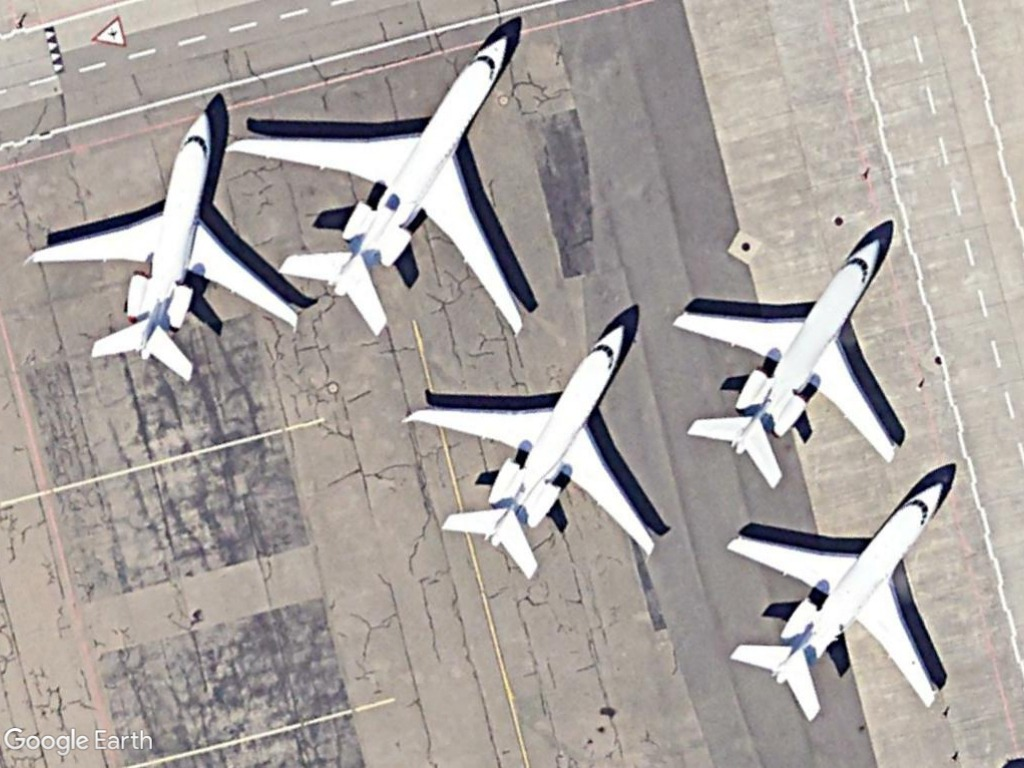chartered: (224, 29, 524, 349), (29, 113, 299, 384), (403, 317, 658, 583), (666, 235, 901, 490), (724, 473, 949, 719)
